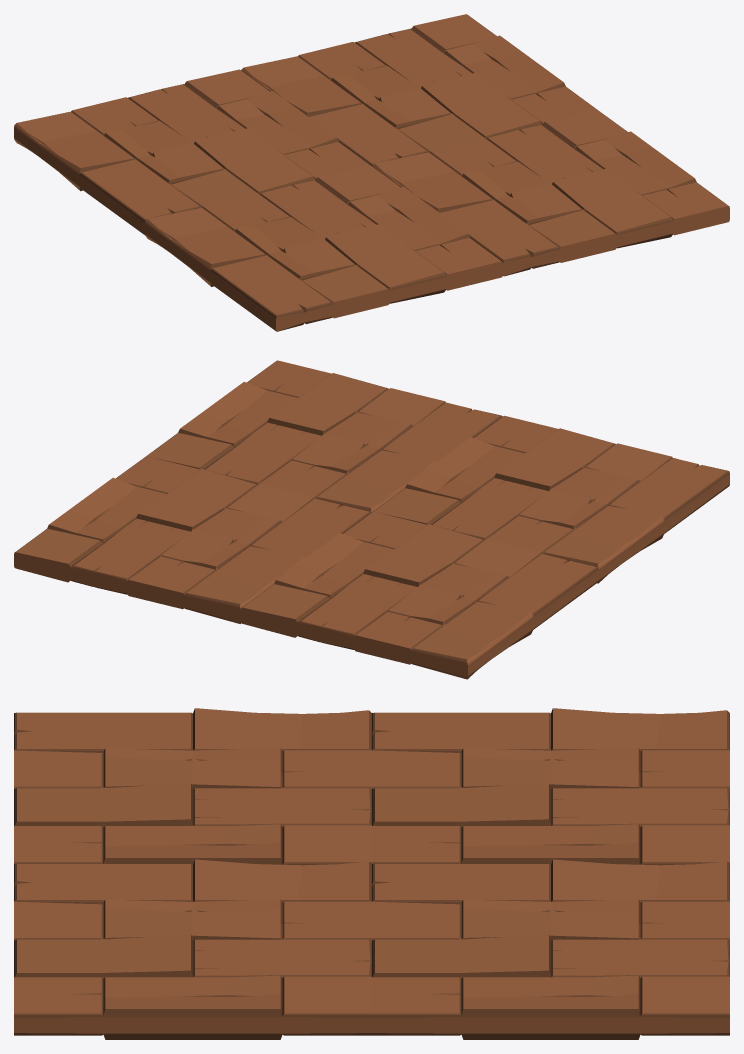
Rendered from Floor_Wood_1.fbx.
3 renders of one model, top to bottom at view 1: azimuth 30°, elevation 25°; view 2: azimuth 150°, elevation 25°; view 3: azimuth 270°, elevation 25°, orthographic. The views are drawn at different scales.
Visible parts, largest first — view 1: Floor_Wood.005; view 2: Floor_Wood.005; view 3: Floor_Wood.005.
Part boxes in pixels (bbox=[...]): Floor_Wood.005: bbox=[14, 14, 729, 331]; Floor_Wood.005: bbox=[14, 360, 729, 679]; Floor_Wood.005: bbox=[14, 708, 729, 1039].
Bounding box in the file's own units: 400 × 20 × 400.
